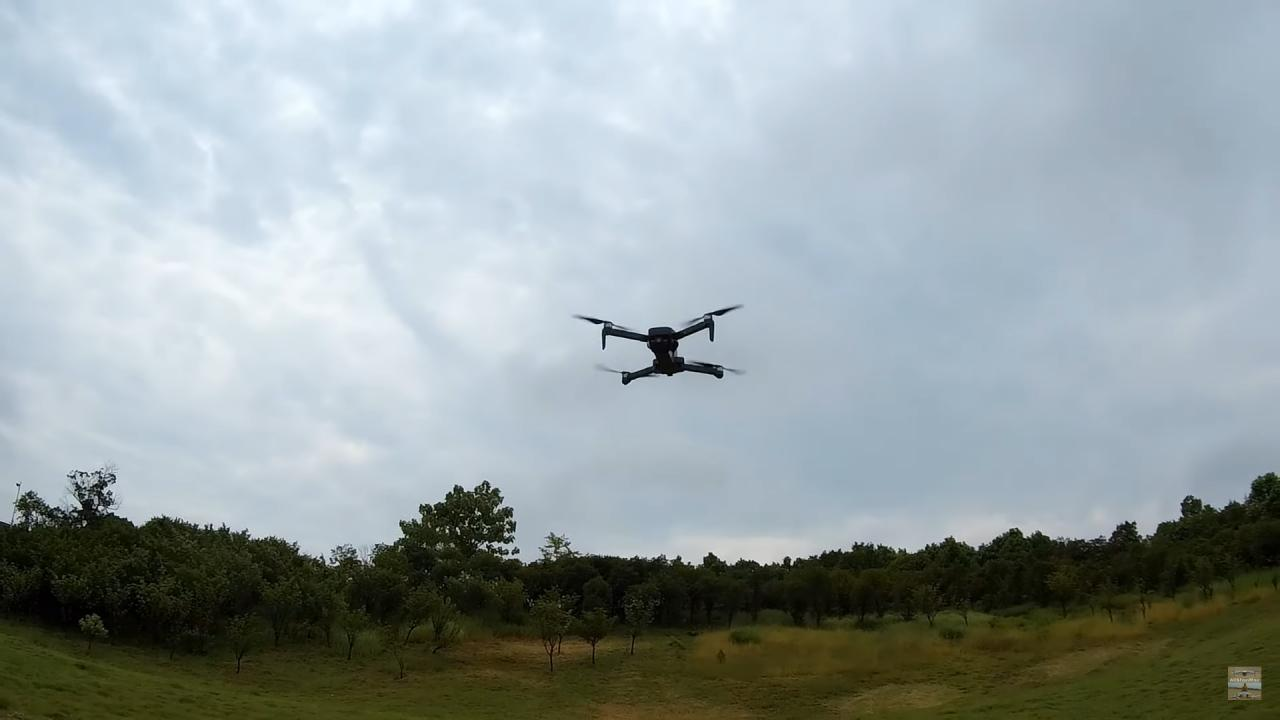Drone: (554, 295, 760, 395)
